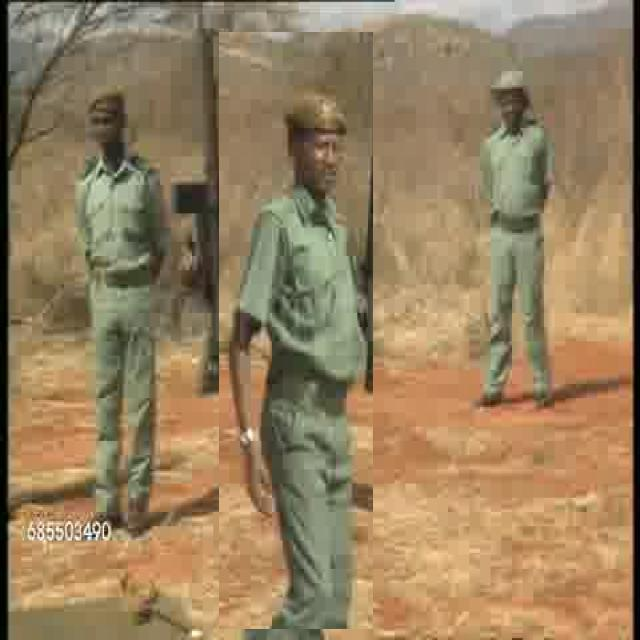poacher: (219, 32, 373, 629), (458, 53, 590, 424), (64, 89, 171, 546)
weapon: (193, 27, 232, 390)
